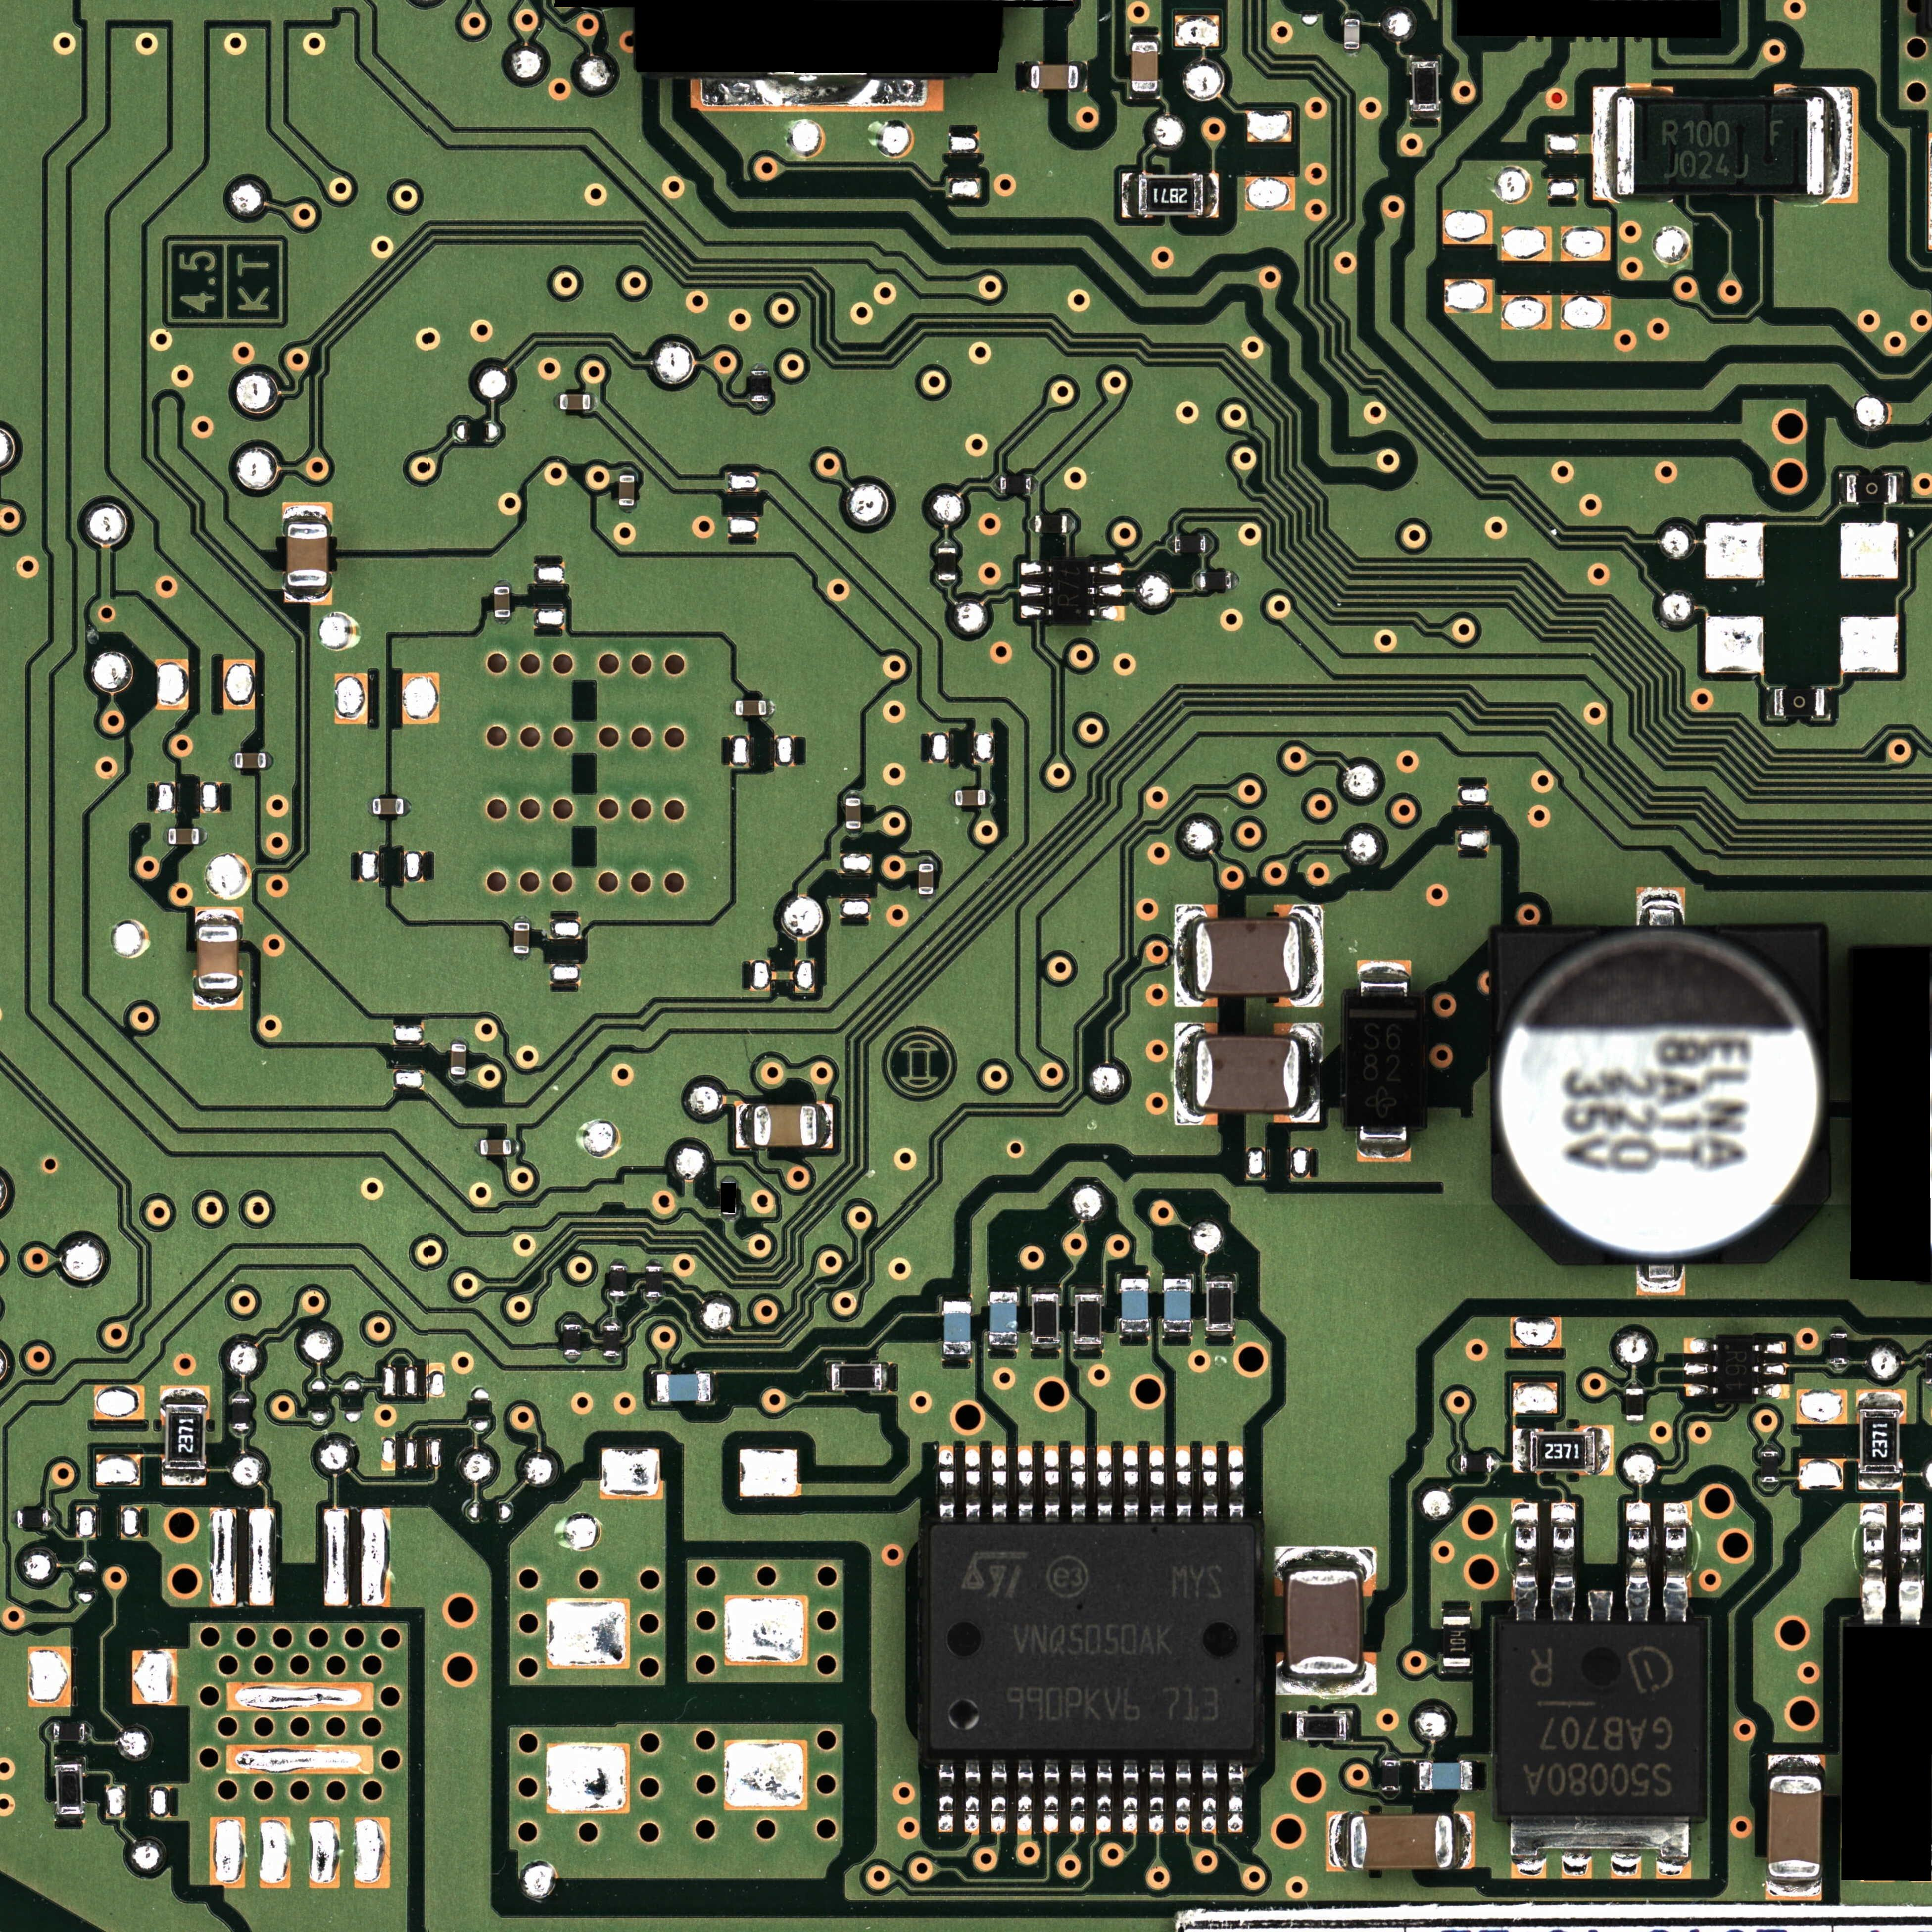Package: (1493, 927, 1831, 1263), (927, 1525, 1254, 1755), (1500, 1621, 1700, 1815), (1617, 96, 1824, 195), (1348, 998, 1421, 1127), (1286, 1571, 1362, 1674), (1196, 920, 1299, 994), (1196, 1037, 1299, 1111), (1350, 1815, 1453, 1868), (1767, 1776, 1821, 1877), (1138, 175, 1203, 216), (1859, 1408, 1900, 1474), (165, 1405, 205, 1468), (754, 1106, 817, 1146), (1530, 1431, 1594, 1472), (287, 524, 327, 586), (198, 927, 239, 989), (1716, 1338, 1753, 1399), (1053, 559, 1088, 623), (989, 1292, 1017, 1345), (1419, 1762, 1472, 1790), (943, 1302, 971, 1353), (656, 1375, 709, 1401), (1122, 1279, 1148, 1332), (1164, 1279, 1191, 1332), (1847, 474, 1897, 502), (1775, 688, 1824, 717), (832, 1364, 881, 1391), (1412, 62, 1438, 111), (1444, 1617, 1470, 1667), (1207, 1281, 1233, 1330), (57, 1764, 81, 1815), (1033, 1293, 1058, 1345), (1132, 42, 1157, 92), (1076, 1295, 1100, 1345), (1297, 1714, 1346, 1739), (1031, 65, 1077, 88), (1829, 1334, 1849, 1364), (938, 548, 955, 580), (1000, 476, 1031, 494), (232, 1398, 249, 1430), (53, 1723, 85, 1741), (563, 1323, 580, 1355), (1200, 571, 1231, 589), (1035, 515, 1067, 533), (1626, 1389, 1644, 1421), (1460, 1454, 1491, 1472), (1760, 1451, 1778, 1483), (750, 372, 768, 402), (1382, 1760, 1399, 1790), (918, 863, 934, 895), (168, 828, 198, 844), (846, 798, 862, 828), (513, 924, 529, 954), (494, 587, 510, 617), (619, 476, 635, 506), (373, 798, 403, 814), (481, 1139, 511, 1155), (603, 1325, 619, 1355), (646, 1267, 662, 1297), (610, 1265, 626, 1295), (18, 1511, 48, 1527), (1175, 536, 1205, 552), (955, 791, 985, 805), (559, 395, 589, 409), (736, 701, 766, 715), (235, 754, 265, 768), (451, 1044, 465, 1074), (1345, 19, 1359, 50)
Solder: (1511, 1815, 1691, 1879), (692, 78, 943, 113), (1826, 88, 1854, 203), (1898, 1502, 1925, 1624), (1550, 1502, 1576, 1622), (1663, 1502, 1690, 1622), (1859, 1504, 1886, 1624), (1626, 1502, 1651, 1622), (1513, 1500, 1537, 1621), (1594, 87, 1617, 200), (1300, 904, 1325, 1007), (1274, 1546, 1376, 1571), (1175, 904, 1196, 1008), (1276, 1675, 1376, 1697), (1175, 1023, 1194, 1127), (1300, 1023, 1320, 1123), (1357, 961, 1412, 996), (1355, 1127, 1410, 1162), (1637, 886, 1686, 924), (1637, 1265, 1684, 1295), (1327, 1812, 1350, 1872), (1069, 1445, 1086, 1518), (991, 1445, 1008, 1518), (1453, 1812, 1474, 1868), (1228, 1445, 1244, 1520), (938, 1759, 954, 1833), (1175, 1760, 1191, 1835), (1148, 1760, 1164, 1835), (1767, 1877, 1822, 1898), (1201, 1445, 1217, 1518), (1175, 1447, 1191, 1520), (1148, 1445, 1164, 1518), (1123, 1445, 1139, 1518), (1097, 1445, 1113, 1518), (1044, 1445, 1060, 1518), (964, 1445, 980, 1518), (938, 1445, 954, 1518), (1017, 1445, 1033, 1518), (991, 1760, 1007, 1833), (1201, 1760, 1217, 1833), (1228, 1760, 1244, 1833), (1767, 1755, 1826, 1775), (283, 502, 333, 524), (193, 989, 242, 1010), (1017, 1760, 1031, 1835), (1044, 1760, 1058, 1835), (1070, 1760, 1085, 1835), (964, 1760, 978, 1833), (1097, 1760, 1111, 1833), (1123, 1760, 1138, 1833), (1594, 1426, 1614, 1476), (195, 908, 242, 927), (161, 1385, 209, 1405), (1856, 1391, 1905, 1408), (161, 1468, 207, 1486), (736, 1102, 754, 1148), (1513, 1428, 1530, 1474), (1587, 1591, 1614, 1621), (283, 587, 331, 603), (1858, 1474, 1904, 1490), (817, 1104, 833, 1148), (1203, 173, 1219, 218), (1122, 173, 1138, 218), (1088, 605, 1125, 621), (1684, 1338, 1716, 1353), (1019, 584, 1053, 598), (1753, 1384, 1783, 1398), (1088, 563, 1122, 575), (1088, 584, 1122, 596), (1021, 563, 1053, 575), (1021, 605, 1053, 617), (1755, 1341, 1787, 1353), (1684, 1362, 1716, 1375), (1684, 1384, 1716, 1396), (1753, 1364, 1785, 1375), (1129, 34, 1161, 42), (1129, 92, 1161, 101), (1118, 1270, 1150, 1279), (1030, 1284, 1062, 1293), (1205, 1272, 1237, 1281), (1838, 472, 1847, 504), (1079, 60, 1088, 92), (1023, 60, 1031, 92), (55, 1755, 85, 1764), (941, 1293, 971, 1302), (881, 1362, 890, 1392), (1410, 53, 1440, 62), (1410, 111, 1440, 120), (1031, 1343, 1062, 1352), (1205, 1330, 1235, 1339), (1472, 1760, 1481, 1790), (1442, 1608, 1470, 1617), (941, 1355, 973, 1362), (709, 1371, 717, 1403), (1072, 1286, 1104, 1293), (987, 1284, 1019, 1292), (1412, 1760, 1419, 1792), (1440, 1667, 1472, 1674), (1897, 472, 1904, 504), (55, 1815, 85, 1822), (1072, 1345, 1102, 1352), (1162, 1272, 1192, 1279), (987, 1345, 1017, 1352), (1162, 1332, 1192, 1339), (1120, 1332, 1150, 1339), (1346, 1711, 1353, 1741), (1290, 1711, 1297, 1741), (1824, 688, 1831, 718), (1767, 688, 1775, 718), (824, 1362, 832, 1391), (651, 1373, 656, 1403), (403, 798, 412, 816), (265, 752, 274, 770), (552, 393, 561, 410), (589, 393, 598, 410), (513, 915, 531, 924), (766, 699, 775, 717), (947, 789, 955, 807), (563, 1355, 580, 1364), (1382, 1790, 1399, 1799), (1453, 1454, 1461, 1472), (451, 1074, 467, 1083), (472, 1139, 481, 1155), (846, 828, 862, 837), (563, 1316, 582, 1323), (494, 580, 511, 587), (366, 798, 373, 816), (494, 617, 511, 625), (232, 1430, 249, 1437), (232, 1391, 249, 1398), (46, 1723, 53, 1741), (750, 402, 768, 409), (750, 363, 768, 370), (938, 541, 955, 548), (938, 580, 955, 587), (513, 954, 531, 961), (603, 1318, 621, 1325), (603, 1357, 621, 1364), (646, 1260, 663, 1267), (609, 1297, 626, 1304), (1031, 476, 1039, 494), (1343, 50, 1361, 57), (993, 476, 1000, 494), (1343, 11, 1361, 18), (1067, 515, 1074, 533), (1028, 515, 1035, 533), (1231, 571, 1238, 589), (1382, 1753, 1399, 1760), (1626, 1382, 1644, 1389), (1829, 1364, 1847, 1371), (1829, 1325, 1847, 1332), (1626, 1421, 1644, 1428), (1760, 1444, 1778, 1451), (1491, 1454, 1499, 1472), (1760, 1483, 1778, 1490), (720, 1175, 738, 1182), (200, 828, 207, 844), (161, 828, 168, 844), (228, 752, 235, 768), (451, 1037, 467, 1044), (48, 1511, 55, 1527), (11, 1511, 18, 1527), (619, 467, 635, 474), (619, 506, 635, 513), (846, 791, 862, 798), (918, 893, 934, 901), (918, 856, 934, 863), (646, 1297, 662, 1304), (511, 1139, 518, 1155), (610, 1258, 626, 1265), (985, 789, 993, 805), (1192, 573, 1200, 589), (1207, 536, 1214, 552), (1168, 536, 1175, 552), (722, 1215, 738, 1223), (729, 701, 736, 715), (85, 1723, 90, 1741)
